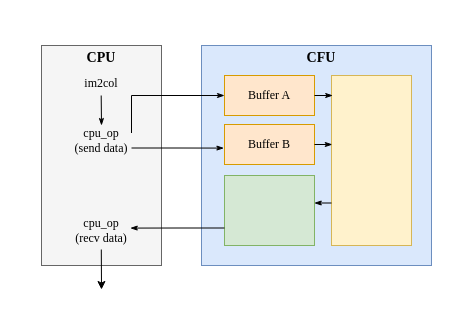
Image size: 474x321. Some labels were removed from this diagram. Here are the shapes that lost their labels. From the top down, the centre of each, then its label:
At (371,160): "TPU".
At (269,210): "Buffer C".
